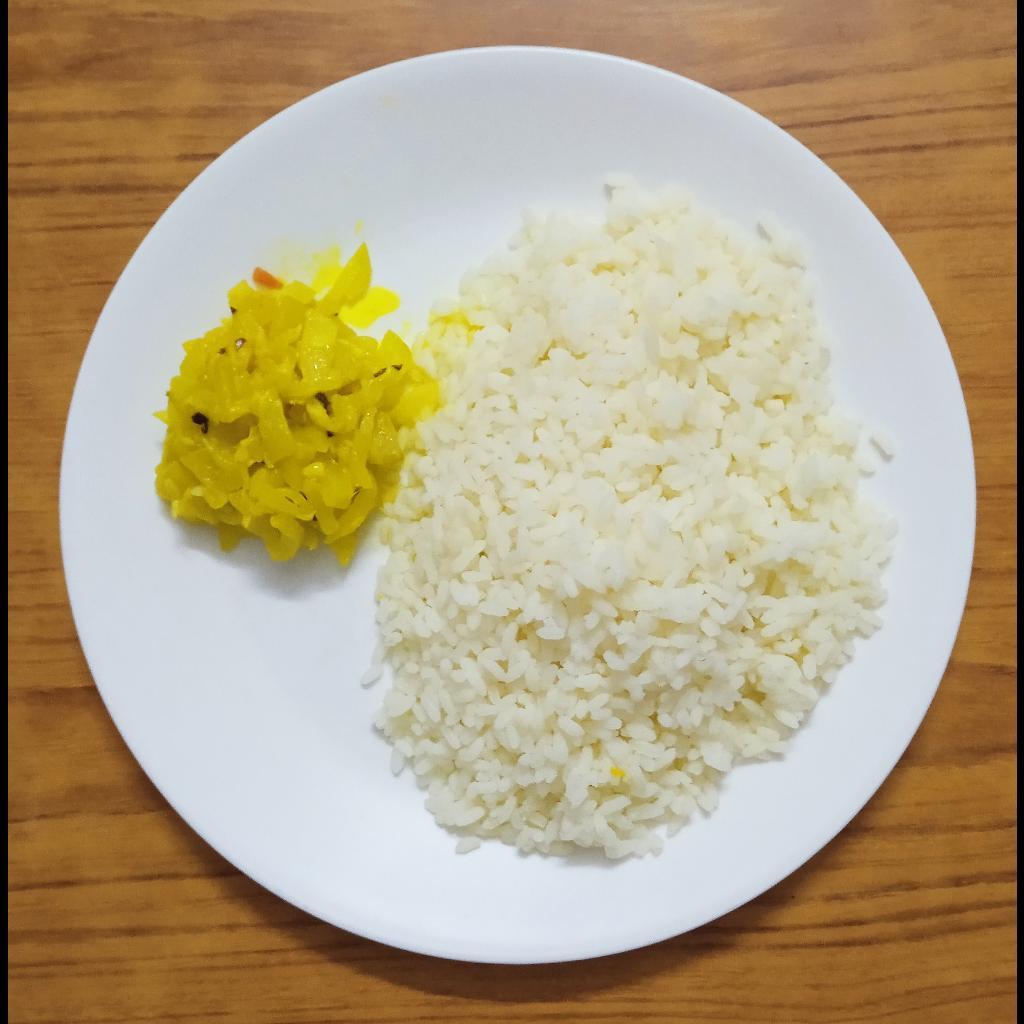papaya: (154, 228, 443, 565)
rice: (352, 165, 900, 866)
